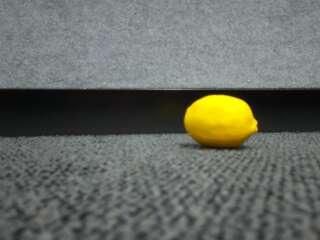lemon: (185, 95, 258, 147)
